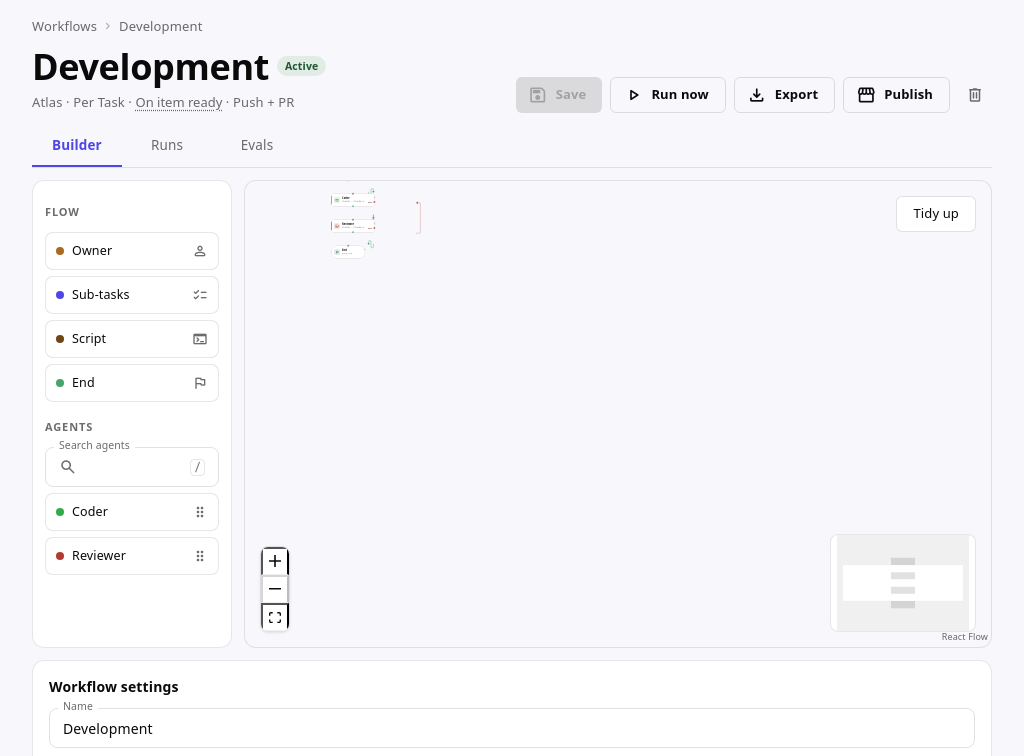
Scenario: WorkflowBuilder › drops the server’s graph errors as soon as the graph is edited
This screenshot has width=1024, height=756.
In the field labelled "Name": (512,728) [49,708,975,748], type "!"
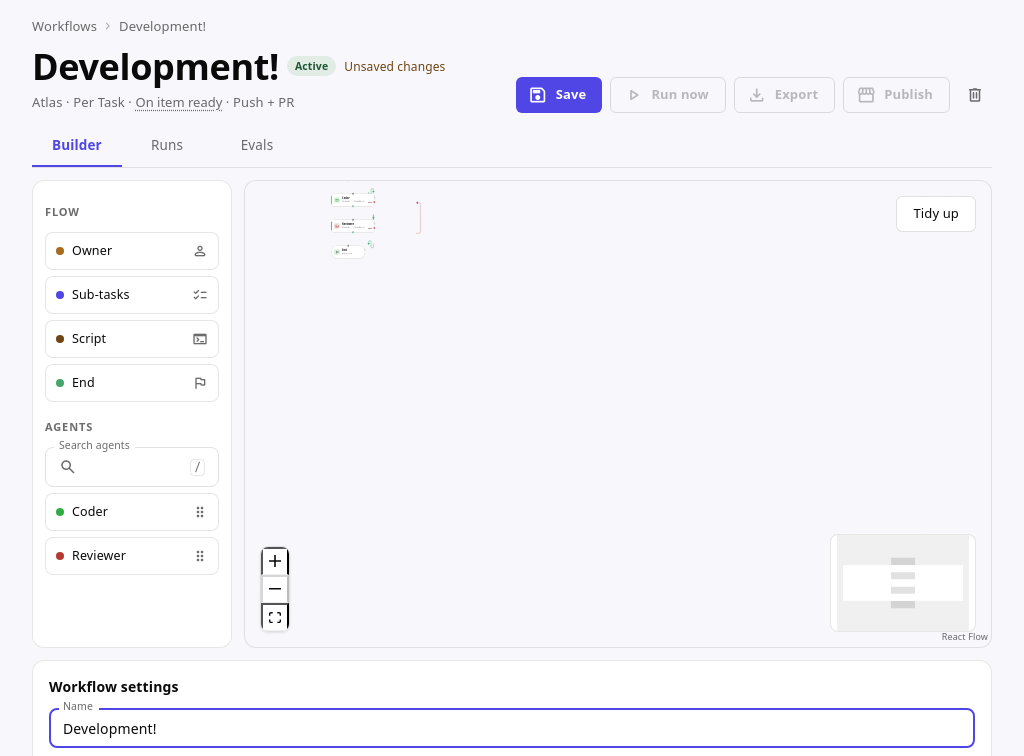
Click the button "Save": (559,95) [516,77,602,113]
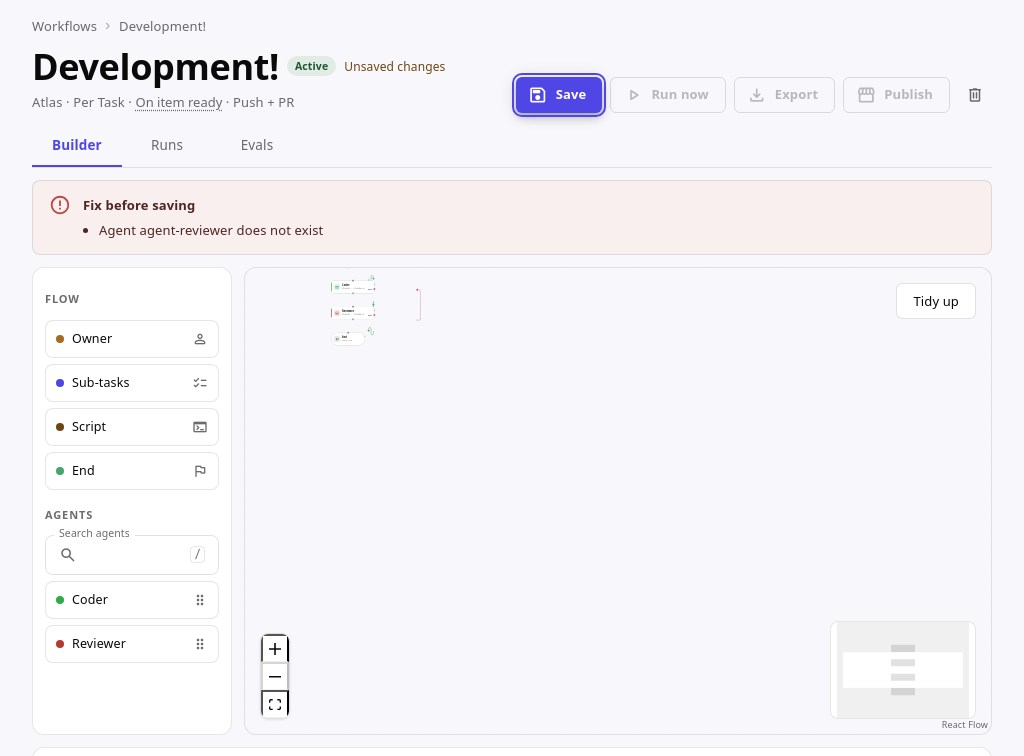
Expected: the message "Fix before saving Agent agent-reviewer does not exist" is shown, [32,180,992,255]
Click the button with aria-label "Add Owner": (132,339) [45,320,219,358]
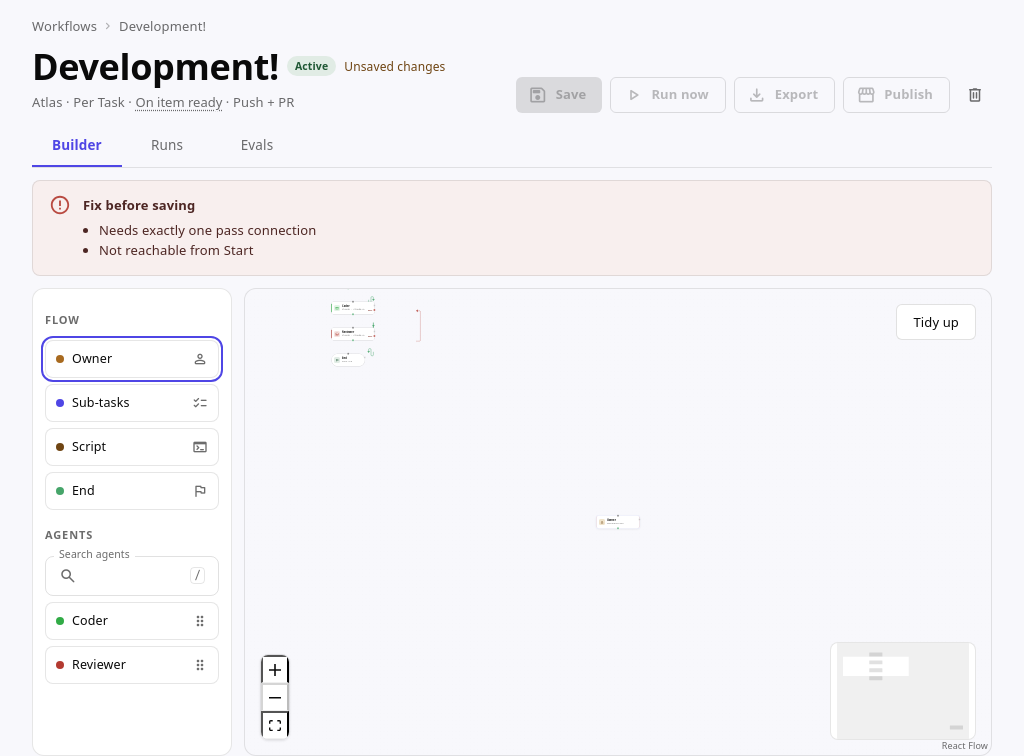
Expected: the list item "Agent agent-reviewer does not exist" is gone
Expected: the list item "Needs exactly one pass connection" is shown, [99,220,316,240]
